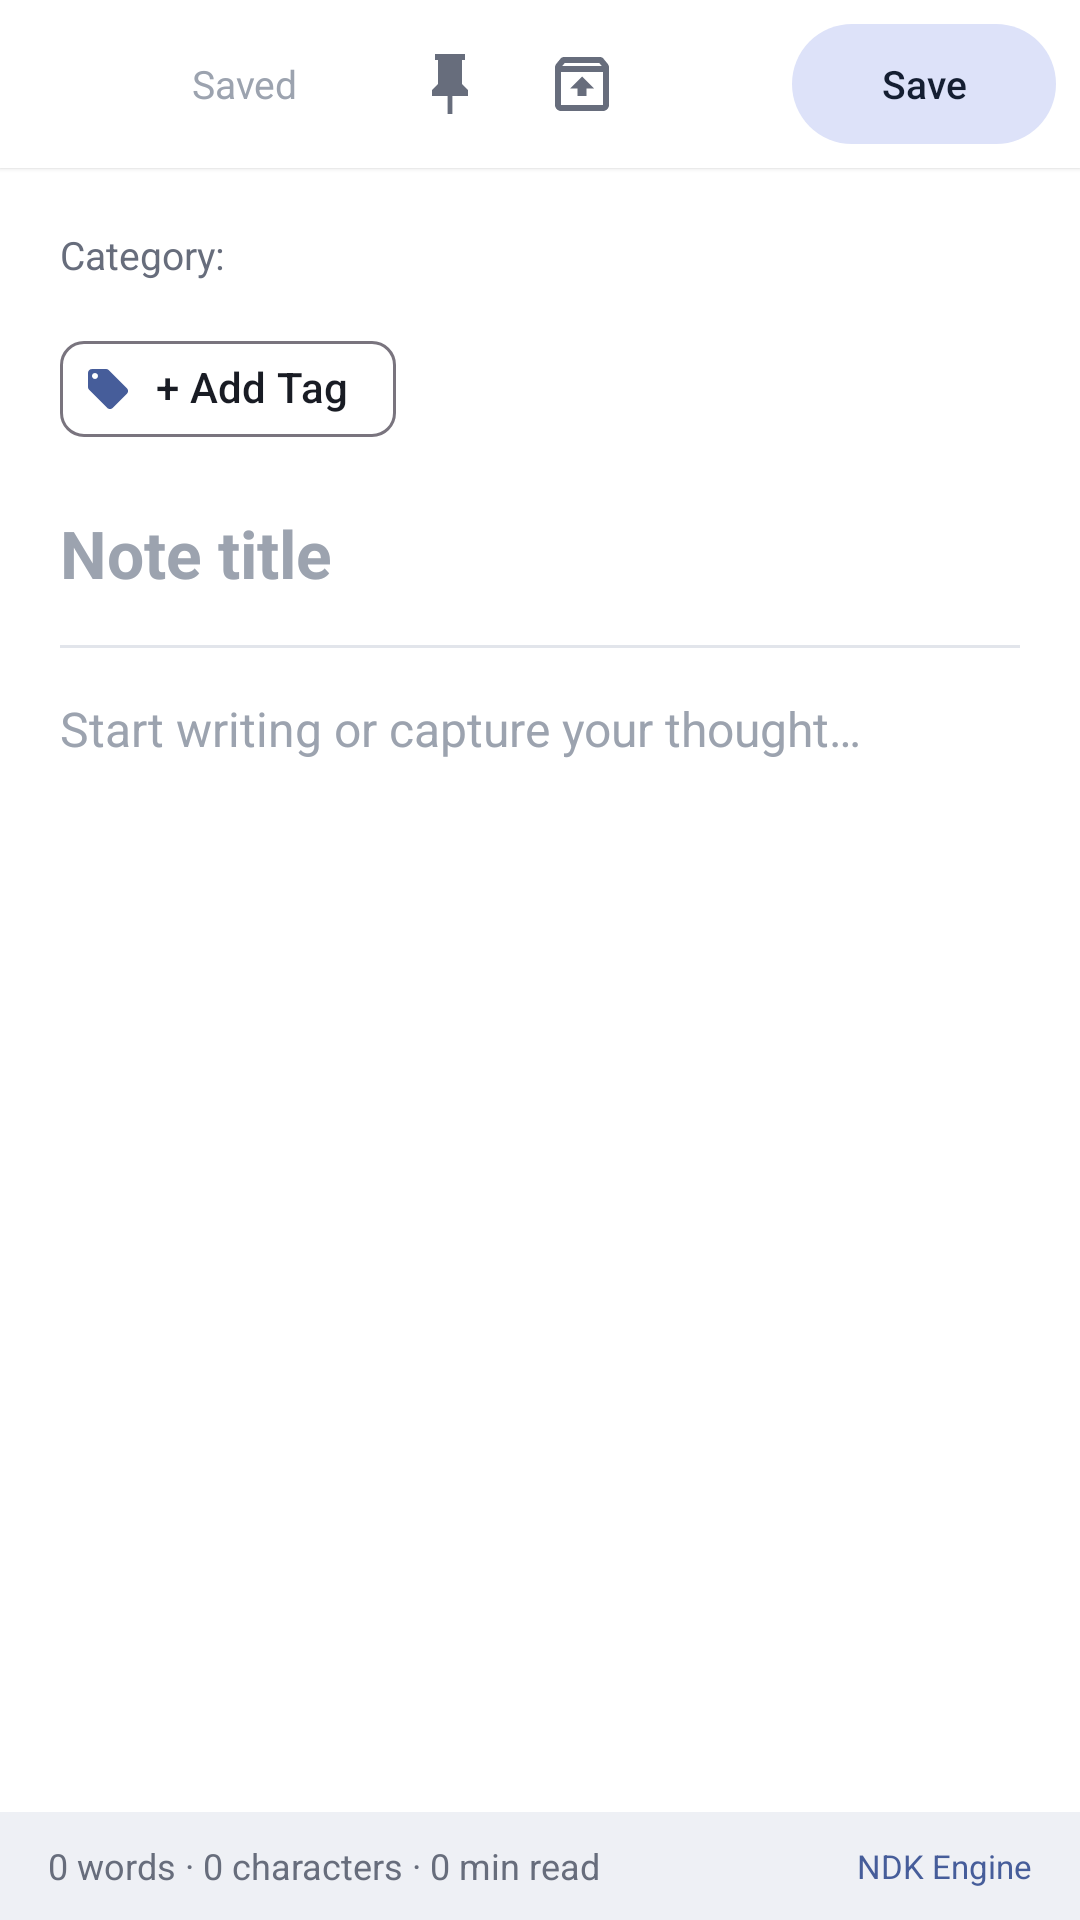

Named icons in this screenshot (1080x1920) and their bounding boxes, (x1, y1, x2, y2):
Archive note: (555, 57, 609, 111)
Pin note: (432, 54, 468, 114)
